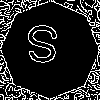S: (25, 25, 59, 72)
